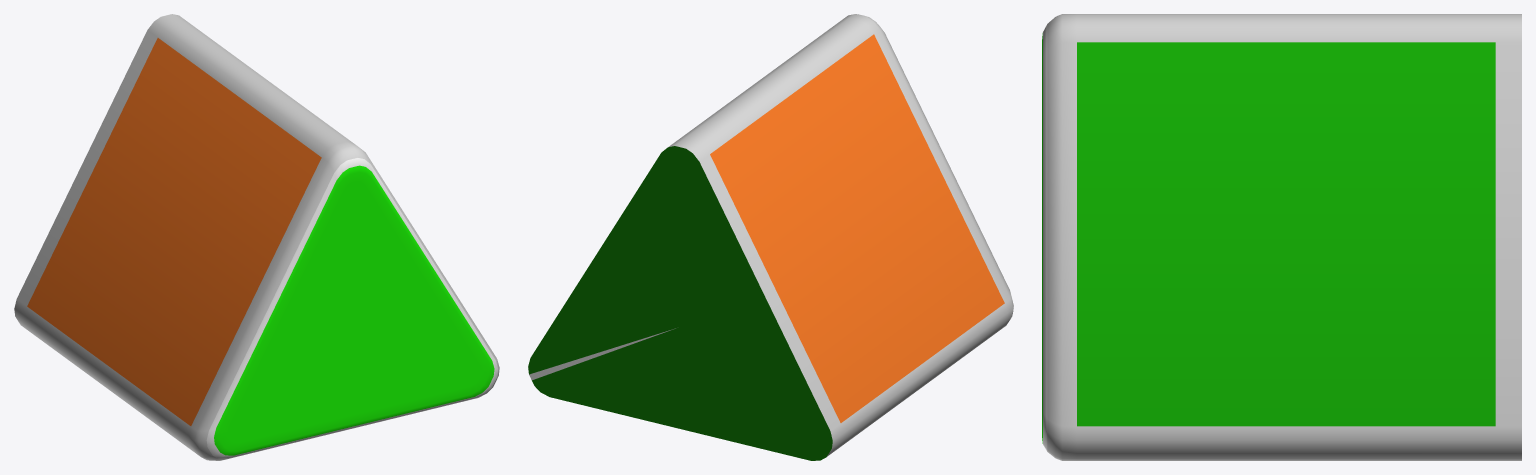
The model's file is D_FBX_06_Bumper_00_A.fbx.
3 renders of one model, left to right at view 1: azimuth 30°, elevation 25°; view 2: azimuth 150°, elevation 25°; view 3: azimuth 270°, elevation 25°, orthographic. The views are drawn at different scales.
Visible parts, largest first — view 1: D_FBX_06_Bumper_00_A; view 2: D_FBX_06_Bumper_00_A; view 3: D_FBX_06_Bumper_00_A.
Boxes of the visible parts, bbox=[...] form: D_FBX_06_Bumper_00_A: bbox=[14, 14, 499, 460]; D_FBX_06_Bumper_00_A: bbox=[528, 14, 1013, 460]; D_FBX_06_Bumper_00_A: bbox=[1042, 14, 1521, 460].
Size of the model in its own units: 1.95 by 1.73 by 2.09.
